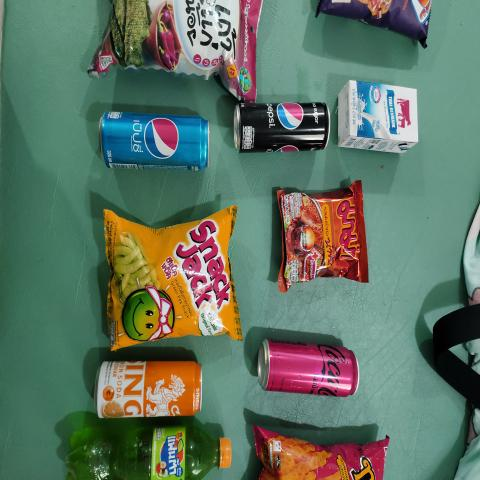coke_red: (262, 344, 358, 394)
fanta_green: (68, 428, 234, 480)
mama: (283, 188, 358, 280)
pepsi_black: (232, 102, 328, 148)
pepsi_blue: (100, 108, 204, 175)
singha_yellow: (96, 365, 201, 416)
snack_jack: (111, 214, 235, 338)
thai_denmark: (335, 81, 422, 152)
